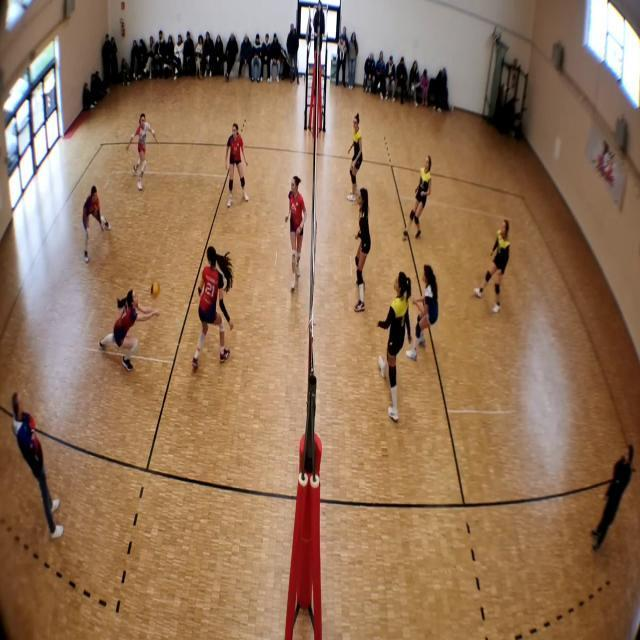volleyball: (150, 282, 160, 299)
